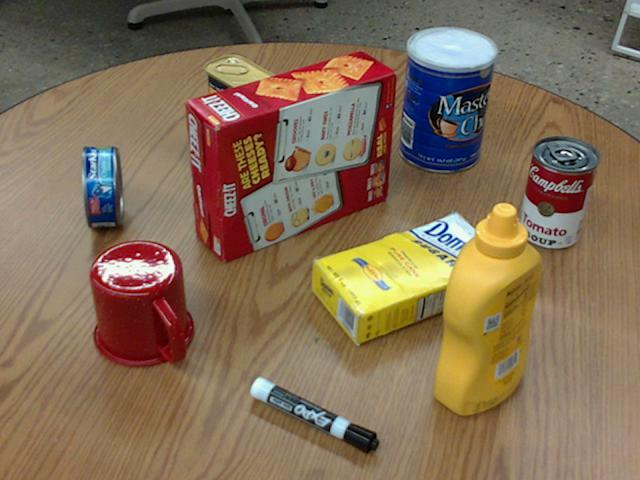cracker_box: (186, 50, 393, 261)
gelatin_box: (299, 66, 380, 121)
large_marker: (250, 377, 378, 452)
master_chef_can: (398, 26, 495, 171)
mug: (90, 240, 194, 366)
mustard_bottle: (435, 203, 541, 415)
potted_meat_can: (205, 54, 282, 149)
sugar_box: (311, 214, 509, 342)
tomato_soup_can: (519, 136, 599, 248)
tuna_fish_can: (82, 146, 122, 227)
